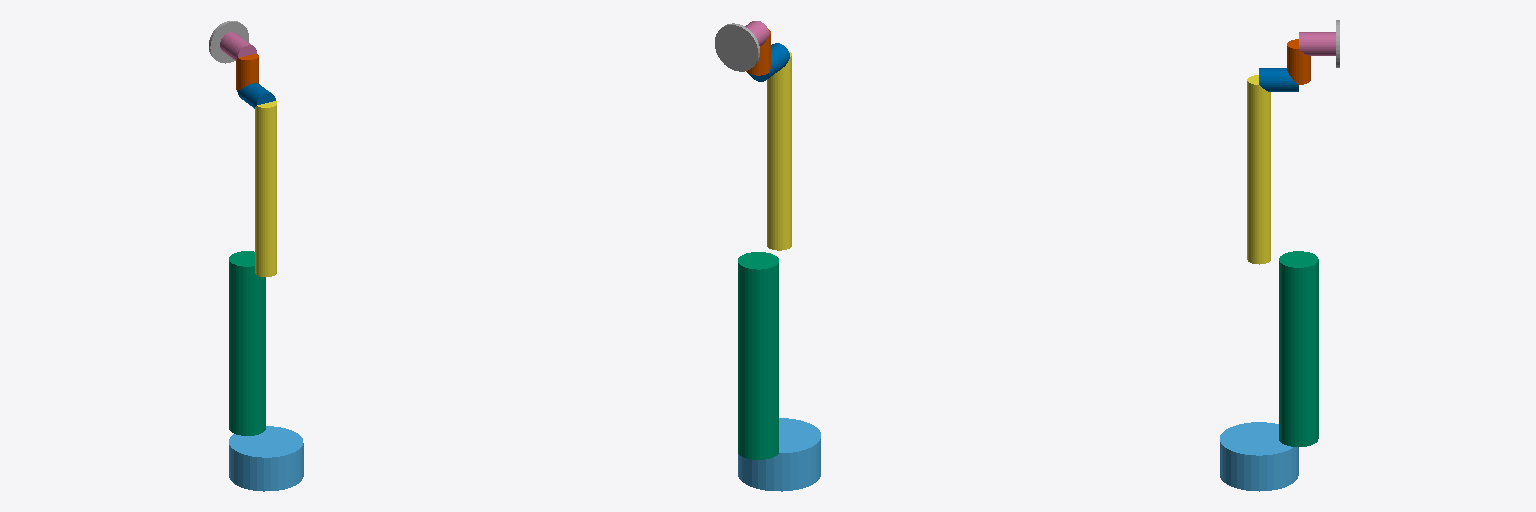
The robot description file, URDF, robot "universal_robot":
<?xml version="1.0" ?>
<robot name="universal_robot">

  <link name="base_link"/>

  <joint name="shoulder_pan_joint" type="revolute">
    <parent link="base_link"/>
    <child link="shoulder_link"/>
    <origin rpy="0.0 0.0 0.0" xyz="0.0 0.0 0.1"/>
    <axis xyz="0.0 0.0 1.0"/>
    <limit effort="10.0" lower="-3.14" upper="3.14" velocity="1.0"/>
  </joint>

  <link name="shoulder_link">
    <visual>
      <geometry>
        <cylinder length="0.1" radius="0.1"/>
      </geometry>
      <origin rpy="0.0 0.0 0.0" xyz="0.0 0.0 -0.05"/>
    </visual>
    <collision>
      <geometry>
        <cylinder length="0.1" radius="0.1"/>
      </geometry>
      <origin rpy="0.0 0.0 0.0" xyz="0.0 0.0 -0.05"/>
    </collision>
  </link>

  <joint name="shoulder_lift_joint" type="revolute">
    <parent link="shoulder_link"/>
    <child link="upper_arm_link"/>
    <origin rpy="0.0 0.0 0.0" xyz="0.0 0.1 0.0"/>
    <axis xyz="0.0 1.0 0.0"/>
    <limit effort="10.0" lower="-3.14" upper="3.14" velocity="1.0"/>
  </joint>

  <link name="upper_arm_link">
    <visual>
      <geometry>
        <cylinder length="0.5" radius="0.05"/>
      </geometry>
      <origin rpy="0.0 0.0 0.0" xyz="0.0 0.0 0.25"/>
    </visual>
    <collision>
      <geometry>
        <cylinder length="0.5" radius="0.05"/>
      </geometry>
      <origin rpy="0.0 0.0 0.0" xyz="0.0 0.0 0.25"/>
    </collision>
  </link>

  <joint name="elbow_joint" type="revolute">
    <parent link="upper_arm_link"/>
    <child link="forearm_link"/>
    <origin rpy="0.0 0.0 0.0" xyz="0.0 -0.1 0.5"/>
    <axis xyz="0.0 -1.0 0.0"/>
    <limit effort="10.0" lower="-3.14" upper="3.14" velocity="1.0"/>
  </joint>

  <link name="forearm_link">
    <visual>
      <geometry>
        <cylinder length="0.5" radius="0.03"/>
      </geometry>
      <origin rpy="0.0 0.0 0.0" xyz="0.0 0.0 0.25"/>
    </visual>
    <collision>
      <geometry>
        <cylinder length="0.5" radius="0.03"/>
      </geometry>
      <origin rpy="0.0 0.0 0.0" xyz="0.0 0.0 0.25"/>
    </collision>
  </link>

  <joint name="wrist_1_joint" type="revolute">
    <parent link="forearm_link"/>
    <child link="wrist_1_link"/>
    <origin rpy="0.0 0.0 0.0" xyz="0.0 0.0 0.5"/>
    <axis xyz="0.0 1.0 0.0"/>
    <limit effort="10.0" lower="-3.14" upper="3.14" velocity="1.0"/>
  </joint>

  <link name="wrist_1_link">
    <visual>
      <geometry>
        <cylinder length="0.1" radius="0.03"/>
      </geometry>
      <origin rpy="-1.57 0.0 0.0" xyz="0.0 0.05 0.0"/>
    </visual>
    <collision>
      <geometry>
        <cylinder length="0.1" radius="0.03"/>
      </geometry>
      <origin rpy="-1.57 0.0 0.0" xyz="0.0 0.05 0.0"/>
    </collision>
  </link>

  <joint name="wrist_2_joint" type="revolute">
    <parent link="wrist_1_link"/>
    <child link="wrist_2_link"/>
    <origin rpy="0.0 0.0 0.0" xyz="0.0 0.1 0.0"/>
    <axis xyz="0.0 0.0 1.0"/>
    <limit effort="10.0" lower="-3.14" upper="3.14" velocity="1.0"/>
  </joint>

  <link name="wrist_2_link">
    <visual>
      <geometry>
        <cylinder length="0.1" radius="0.03"/>
      </geometry>
      <origin rpy="0.0 0.0 0.0" xyz="0.0 0.0 0.05"/>
    </visual>
    <collision>
      <geometry>
        <cylinder length="0.1" radius="0.03"/>
      </geometry>
      <origin rpy="0.0 0.0 0.0" xyz="0.0 0.0 0.05"/>
    </collision>
  </link>

  <joint name="wrist_3_joint" type="revolute">
    <parent link="wrist_2_link"/>
    <child link="wrist_3_link"/>
    <origin rpy="0.0 0.0 0.0" xyz="0.0 0.0 0.1"/>
    <axis xyz="0.0 1.0 0.0"/>
    <limit effort="10.0" lower="-3.14" upper="3.14" velocity="1.0"/>
  </joint>

  <link name="wrist_3_link">
    <visual>
      <geometry>
        <cylinder length="0.1" radius="0.03"/>
      </geometry>
      <origin rpy="-1.57 0.0 0.0" xyz="0.0 0.05 0.0"/>
    </visual>
    <collision>
      <geometry>
        <cylinder length="0.1" radius="0.03"/>
      </geometry>
      <origin rpy="-1.57 0.0 0.0" xyz="0.0 0.05 0.0"/>
    </collision>
  </link>

  <joint name="ee_fixed_joint" type="fixed">
    <parent link="wrist_3_link"/>
    <child link="ee_link"/>
    <origin rpy="0.0 0.0 1.57" xyz="0.0 0.1 0.0"/>
  </joint>

  <link name="ee_link">
    <visual>
      <geometry>
        <cylinder length="0.01" radius="0.06"/>
      </geometry>
      <origin rpy="0.0 -1.57 0.0" xyz="0.0 0.0 0.0"/>
    </visual>
    <collision>
      <geometry>
        <cylinder length="0.01" radius="0.06"/>
      </geometry>
      <origin rpy="0.0 -1.57 0.0" xyz="0.0 0.0 0.0"/>
    </collision>
  </link>

</robot>

--- Render facts (derived) ---
3 views of the same robot in one strip: view 1: azimuth 30°, elevation 25°; view 2: azimuth 150°, elevation 25°; view 3: azimuth 270°, elevation 25° (orthographic).
Model universal_robot with 8 links and 7 joints (6 revolute, 1 fixed), rooted at base_link, posed every joint at zero.
Visible links, largest first — view 1: upper_arm_link, shoulder_link, forearm_link, ee_link, wrist_2_link, wrist_3_link, wrist_1_link; view 2: upper_arm_link, forearm_link, shoulder_link, ee_link, wrist_1_link; view 3: upper_arm_link, shoulder_link, forearm_link, wrist_3_link, wrist_2_link, wrist_1_link.
Link boxes in pixels (left/top/right/bottom): upper_arm_link: left=229, top=251, right=265, bottom=435; shoulder_link: left=229, top=426, right=303, bottom=491; forearm_link: left=255, top=101, right=276, bottom=276; ee_link: left=209, top=21, right=248, bottom=63; wrist_2_link: left=236, top=54, right=258, bottom=91; wrist_3_link: left=220, top=32, right=256, bottom=60; wrist_1_link: left=238, top=83, right=275, bottom=108; upper_arm_link: left=738, top=252, right=778, bottom=459; forearm_link: left=767, top=52, right=791, bottom=250; shoulder_link: left=738, top=418, right=820, bottom=491; ee_link: left=715, top=23, right=759, bottom=71; wrist_1_link: left=749, top=43, right=789, bottom=81; upper_arm_link: left=1279, top=251, right=1318, bottom=446; shoulder_link: left=1220, top=422, right=1298, bottom=491; forearm_link: left=1247, top=75, right=1270, bottom=264; wrist_3_link: left=1299, top=32, right=1335, bottom=55; wrist_2_link: left=1287, top=39, right=1310, bottom=84; wrist_1_link: left=1259, top=68, right=1298, bottom=91.
Bounding box of the posed robot: 0.2 × 0.3051 × 1.26 m (x, y, z).
Geometry: primitives only (box / cylinder / sphere), no mesh files.